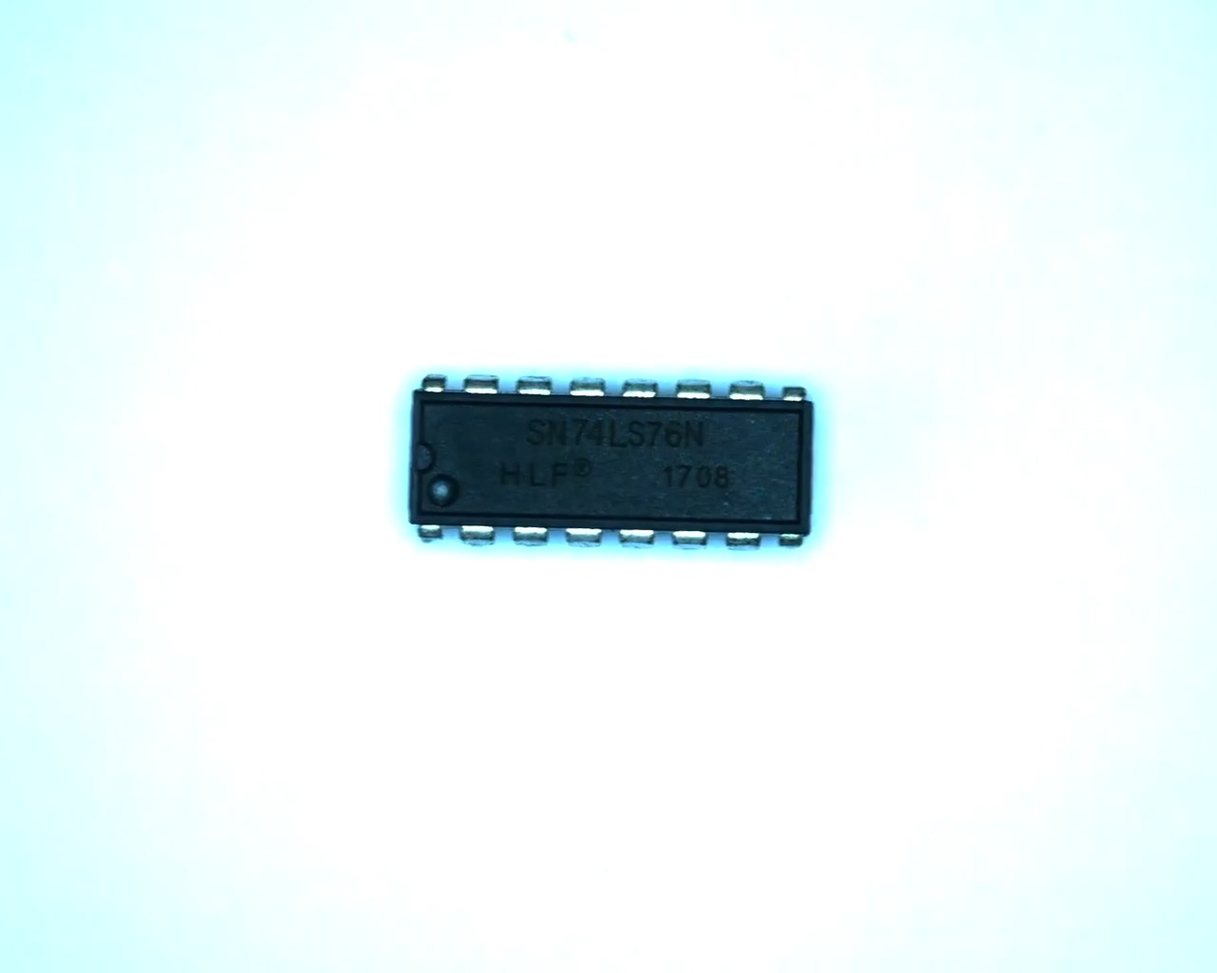IC: (407, 371, 815, 552)
notch: (411, 439, 438, 478)
